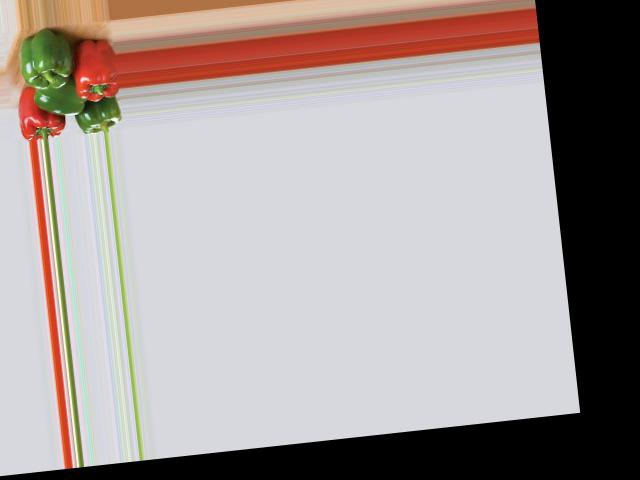bell_pepper: (67, 31, 119, 101)
